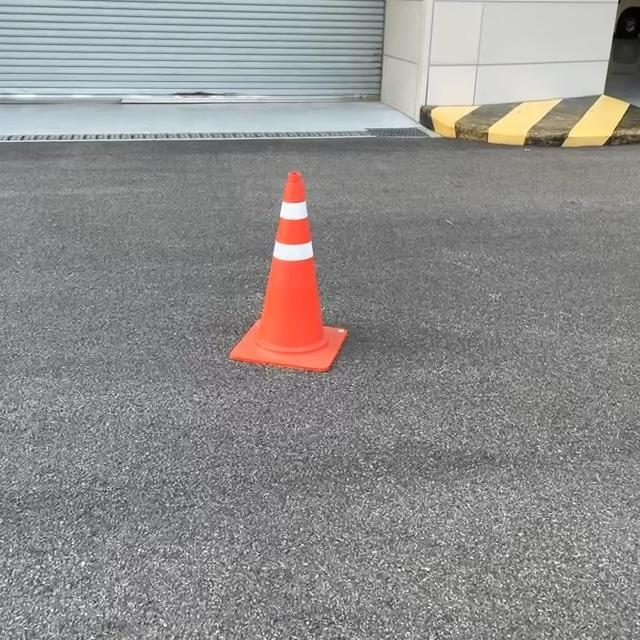fallen_object: (199, 177, 382, 396)
